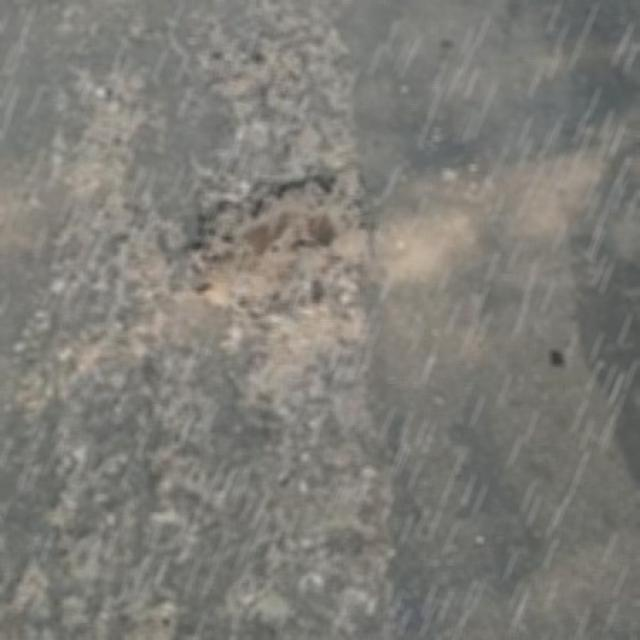road-pothole: (159, 153, 366, 413)
